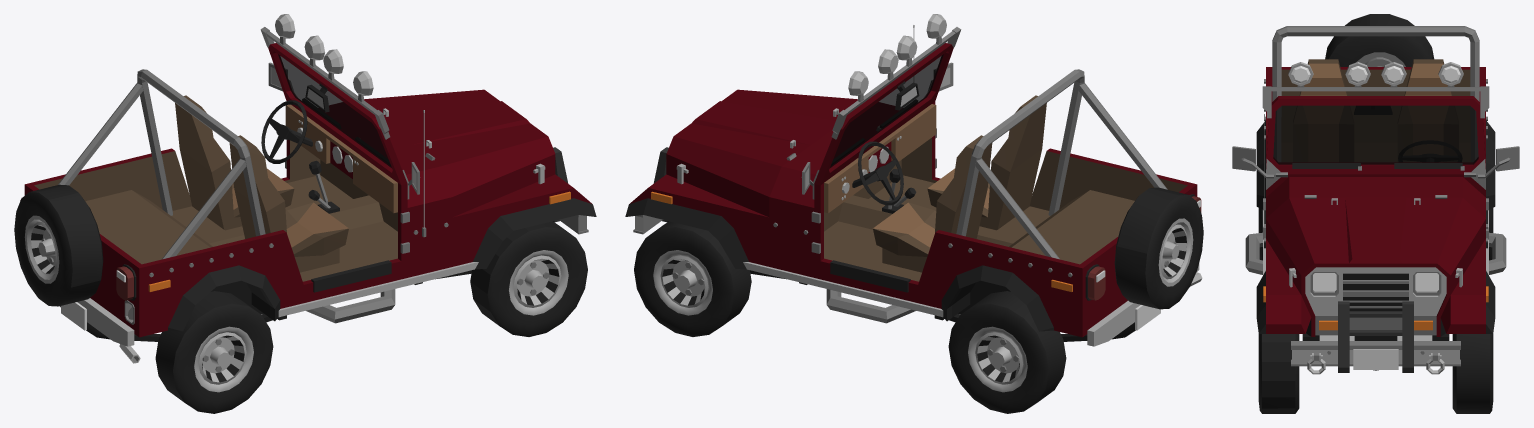
Rendered from car.gltf.
3 views of the same model, side by side, from view 1: azimuth 30°, elevation 25°; view 2: azimuth 150°, elevation 25°; view 3: azimuth 270°, elevation 25° (orthographic). The views are drawn at different scales.
Parts seen in each view (by area): view 1: mesh-body, mesh-wheelRR, mesh-wheelFR; view 2: mesh-body, mesh-wheelRL, mesh-wheelFL; view 3: mesh-body, mesh-wheelFL, mesh-wheelFR.
Part boxes in pixels (x1,y1,x2,y2): mesh-body: [14, 14, 596, 363]; mesh-wheelRR: [155, 291, 273, 413]; mesh-wheelFR: [470, 221, 587, 336]; mesh-body: [625, 14, 1203, 346]; mesh-wheelRL: [948, 291, 1066, 413]; mesh-wheelFL: [634, 221, 751, 336]; mesh-body: [1232, 14, 1519, 374]; mesh-wheelFL: [1452, 334, 1493, 413]; mesh-wheelFR: [1258, 334, 1299, 413].
Bounding box in the file's own units: 4.23 × 2.26 × 2.14.
3 materials, 1 textured.
